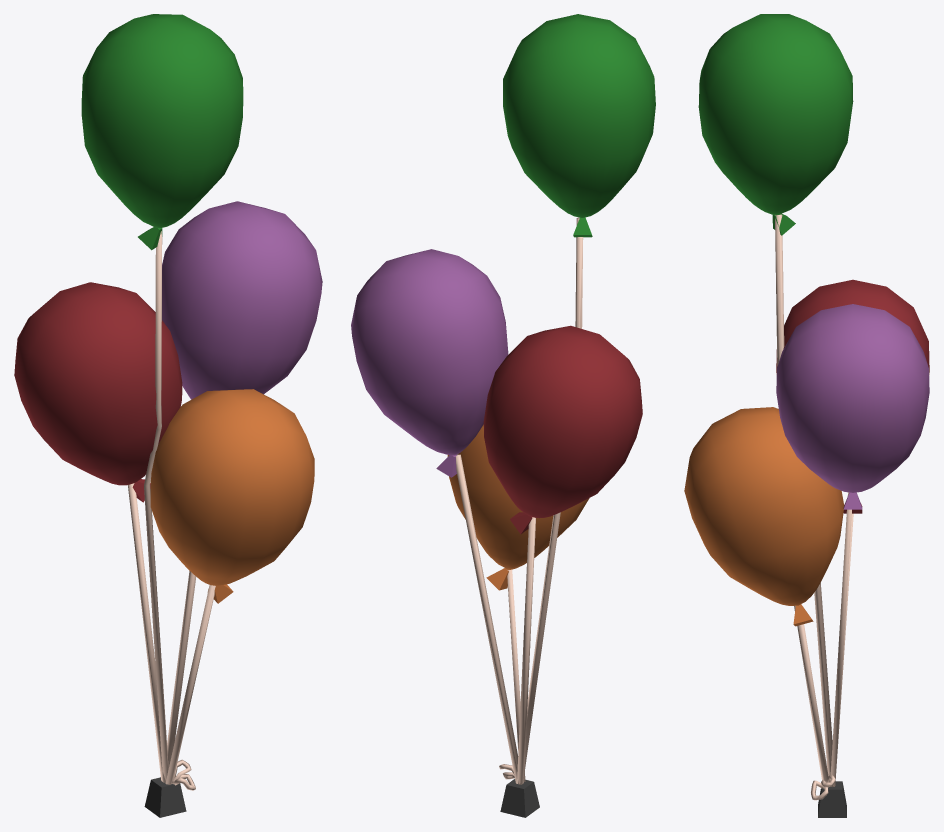
Rendered from Balloons.glb.
The picture shows the model from 3 angles, left to right: view 1: azimuth 30°, elevation 25°; view 2: azimuth 150°, elevation 25°; view 3: azimuth 270°, elevation 25°; orthographic projection. The views are drawn at different scales.
Parts seen in each view (by area): view 1: Cube.004, Cube.003, Cube.002, Cube.001, Vert.002, Cube; view 2: Cube.002, Cube.004, Cube.001, Vert.002, Cube.003, Cube; view 3: Cube.004, Cube.002, Cube.003, Vert.002, Cube.001, Cube.
Part boxes in pixels (bbox=[...]): Cube.004: bbox=[81, 14, 243, 250]; Cube.003: bbox=[150, 389, 314, 603]; Cube.002: bbox=[162, 201, 322, 399]; Cube.001: bbox=[14, 282, 182, 502]; Vert.002: bbox=[128, 231, 215, 790]; Cube: bbox=[144, 777, 186, 817]; Cube.002: bbox=[351, 249, 508, 477]; Cube.004: bbox=[503, 14, 655, 237]; Cube.001: bbox=[483, 325, 642, 534]; Vert.002: bbox=[455, 217, 583, 784]; Cube.003: bbox=[447, 424, 589, 590]; Cube: bbox=[500, 779, 539, 817]; Cube.004: bbox=[698, 14, 853, 235]; Cube.002: bbox=[776, 304, 929, 509]; Cube.003: bbox=[684, 407, 844, 626]; Vert.002: bbox=[775, 214, 853, 800]; Cube.001: bbox=[776, 279, 929, 513]; Cube: bbox=[818, 781, 846, 817].
Size of the model in its own units: 2.19 by 5.98 by 1.71.
